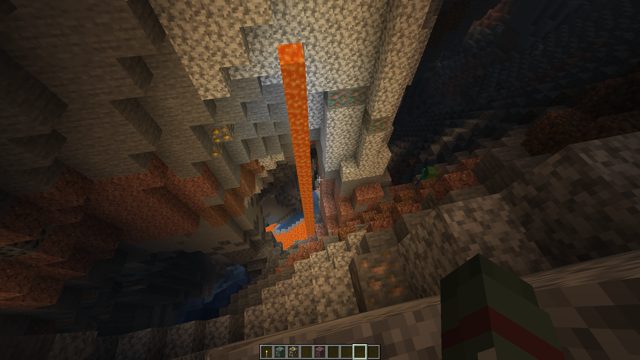coal: (2, 230, 45, 256)
copper: (326, 86, 366, 109), (364, 112, 390, 135), (421, 192, 437, 207)
gold: (199, 126, 233, 160)
iron: (354, 249, 413, 307)
